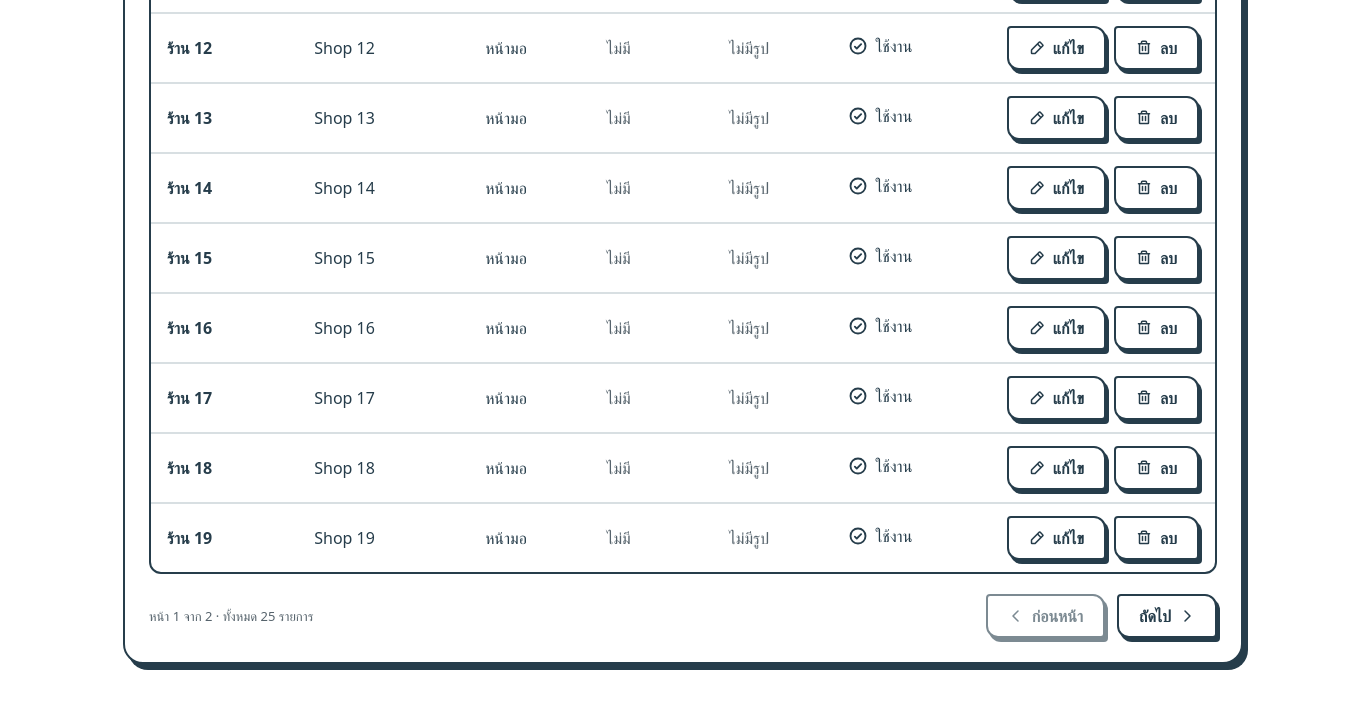
Test case: RestaurantsPage list › pages through results using the API metadata
The image size is (1366, 704).
(page scrolled)
Expected: the text "หน้า 1 จาก 2 · ทั้งหมด 25 รายการ" is shown, left=149, top=606, right=313, bottom=627
Click the button "ถัดไป" at (1167, 616), box left=1117, top=594, right=1217, bottom=638
(page scrolled)
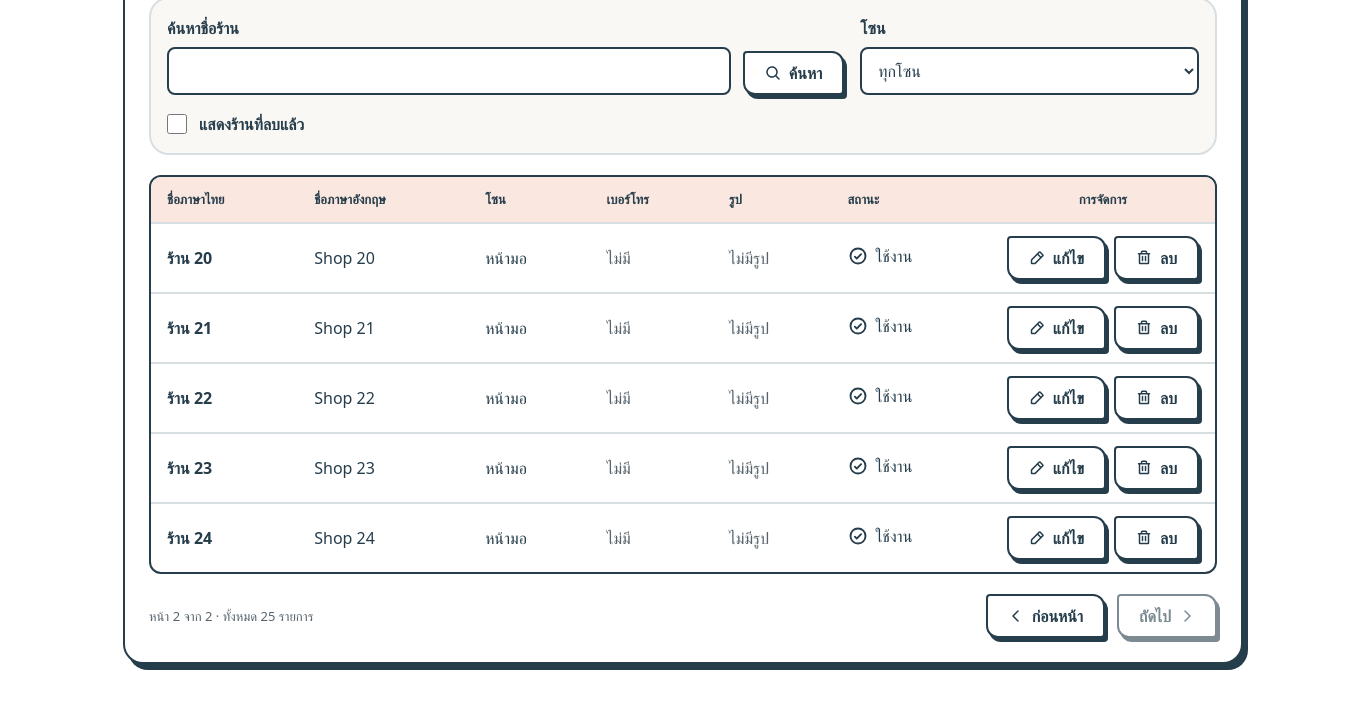
Now the text "หน้า 2 จาก 2 · ทั้งหมด 25 รายการ" is shown, box left=149, top=606, right=313, bottom=627
Now the button "ถัดไป" is disabled, box left=1117, top=594, right=1217, bottom=638
